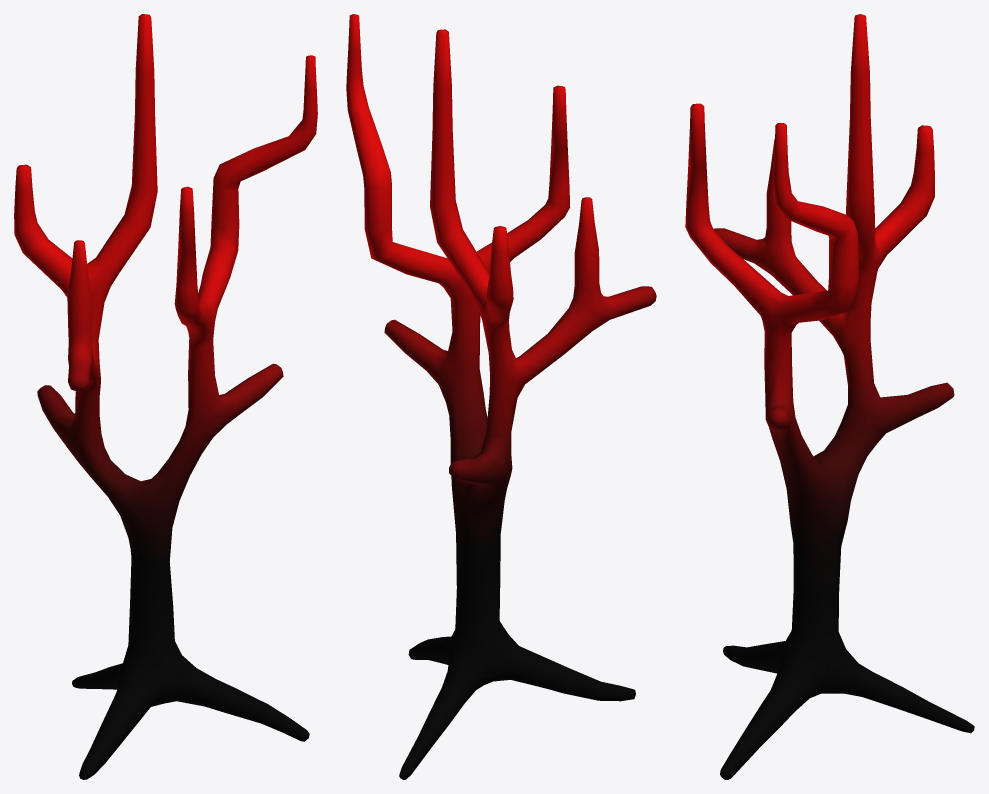
The model's file is TreeNew.fbx.
3 renders of one model, left to right at view 1: azimuth 30°, elevation 25°; view 2: azimuth 150°, elevation 25°; view 3: azimuth 270°, elevation 25°, orthographic. The views are drawn at different scales.
Visible parts, largest first — view 1: Cube.003; view 2: Cube.003; view 3: Cube.003.
Boxes of the visible parts, left/top/right/bottom form: Cube.003: left=14, top=14, right=317, bottom=779; Cube.003: left=346, top=14, right=656, bottom=779; Cube.003: left=685, top=14, right=974, bottom=779.
Bounding box in the file's own units: 64.75 × 158 × 57.
